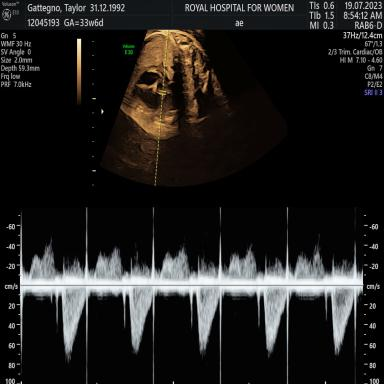Ultrasound-Waves: (27, 207, 356, 383)
